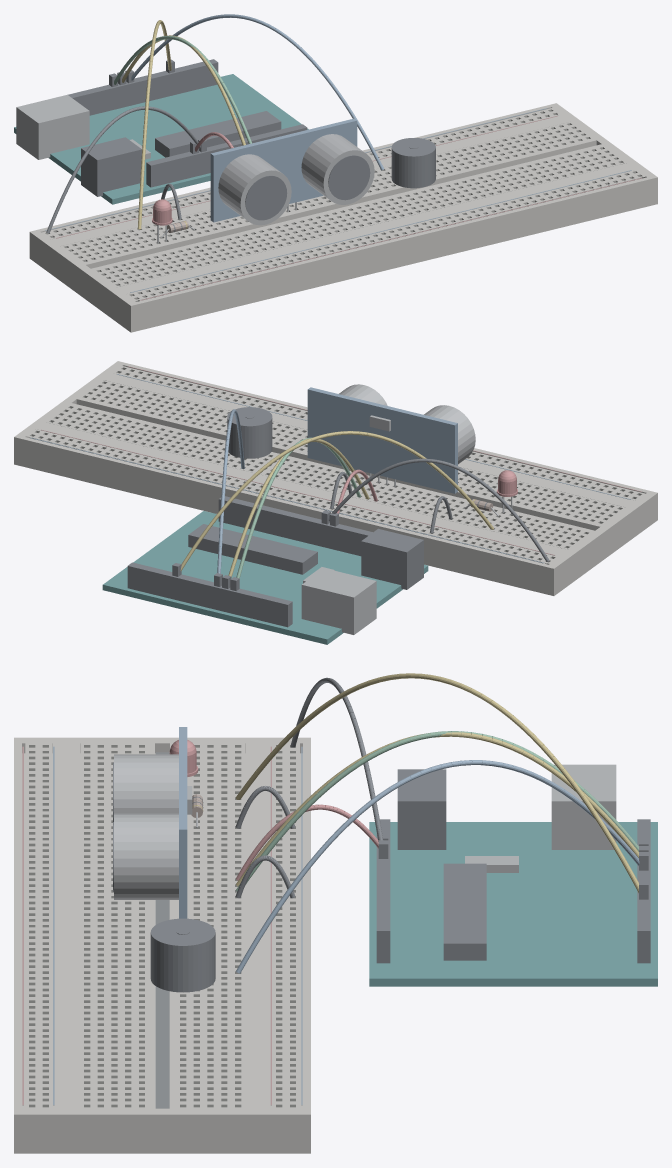
File: step-14.glb
The picture shows the model from 3 angles, top to bottom: view 1: azimuth 30°, elevation 25°; view 2: azimuth 150°, elevation 25°; view 3: azimuth 270°, elevation 25°; orthographic projection. The views are drawn at different scales.
Visible parts, largest first — view 1: breadboard__mesh, uno__mesh, sensor__mesh, buzzer__mesh, wire_buzzer_signal__mesh, wire_led_signal__mesh, wire_ground__mesh, wire_sensor_echo__mesh, wire_sensor_trig__mesh, led_red__mesh; view 2: breadboard__mesh, uno__mesh, sensor__mesh, buzzer__mesh, wire_led_signal__mesh, wire_ground__mesh, wire_buzzer_signal__mesh, wire_sensor_trig__mesh, wire_sensor_echo__mesh, led_red__mesh, wire_sensor_power__mesh; view 3: breadboard__mesh, uno__mesh, sensor__mesh, buzzer__mesh, wire_led_signal__mesh, wire_buzzer_signal__mesh, wire_sensor_echo__mesh, wire_sensor_trig__mesh, wire_ground__mesh, wire_sensor_power__mesh.
Part boxes in pixels (left/top/right/bottom): breadboard__mesh: left=29, top=103, right=657, bottom=332; uno__mesh: left=14, top=59, right=308, bottom=204; sensor__mesh: left=210, top=118, right=374, bottom=225; buzzer__mesh: left=391, top=138, right=435, bottom=188; wire_buzzer_signal__mesh: left=125, top=14, right=384, bottom=170; wire_led_signal__mesh: left=137, top=20, right=174, bottom=229; wire_ground__mesh: left=46, top=106, right=206, bottom=233; wire_sensor_echo__mesh: left=109, top=35, right=251, bottom=143; wire_sensor_trig__mesh: left=117, top=35, right=245, bottom=145; led_red__mesh: left=152, top=199, right=172, bottom=243; breadboard__mesh: left=14, top=361, right=657, bottom=595; uno__mesh: left=102, top=496, right=428, bottom=644; sensor__mesh: left=307, top=384, right=475, bottom=493; buzzer__mesh: left=227, top=407, right=272, bottom=458; wire_led_signal__mesh: left=172, top=431, right=493, bottom=576; wire_ground__mesh: left=321, top=458, right=549, bottom=561; wire_buzzer_signal__mesh: left=214, top=409, right=244, bottom=586; wire_sensor_trig__mesh: left=222, top=438, right=369, bottom=588; wire_sensor_echo__mesh: left=230, top=437, right=360, bottom=590; led_red__mesh: left=497, top=470, right=517, bottom=514; wire_sensor_power__mesh: left=330, top=469, right=377, bottom=526; breadboard__mesh: left=14, top=737, right=310, bottom=1153; uno__mesh: left=369, top=764, right=657, bottom=986; sensor__mesh: left=113, top=727, right=192, bottom=918; buzzer__mesh: left=150, top=918, right=215, bottom=992; wire_led_signal__mesh: left=235, top=673, right=648, bottom=899; wire_buzzer_signal__mesh: left=236, top=760, right=648, bottom=973; wire_sensor_echo__mesh: left=236, top=731, right=648, bottom=891; wire_sensor_trig__mesh: left=236, top=732, right=648, bottom=886; wire_ground__mesh: left=290, top=677, right=388, bottom=858; wire_sensor_power__mesh: left=236, top=804, right=388, bottom=880.
Bounding box in the file's own units: 0.165 × 0.0452 × 0.1192.
